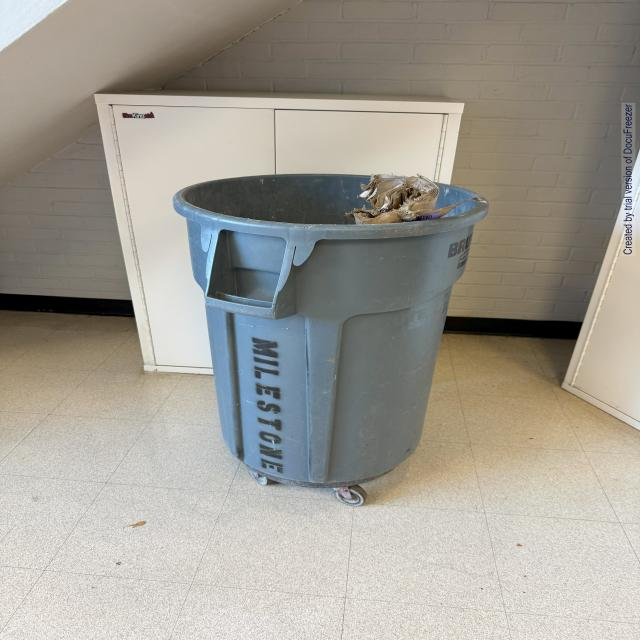Trash bin: (163, 157, 488, 529)
